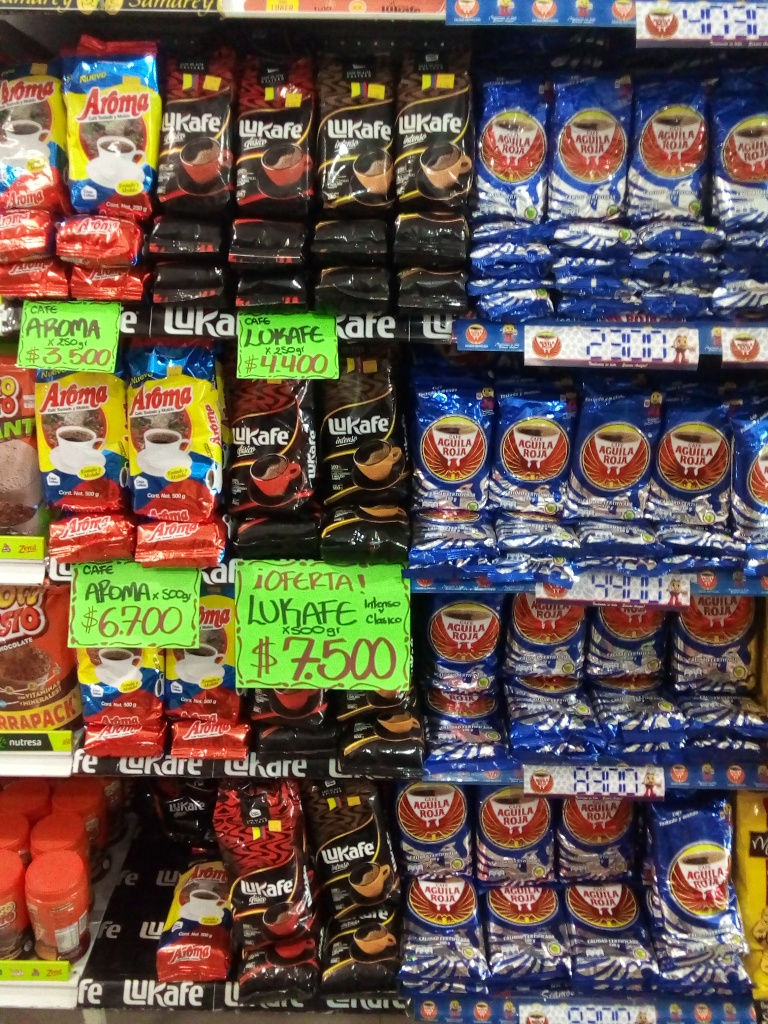COL0170102DYP50000: (2, 342, 46, 542)
COL0170103DYP1,500: (2, 583, 78, 741)
COL0170103TRR30000: (18, 852, 100, 966)
